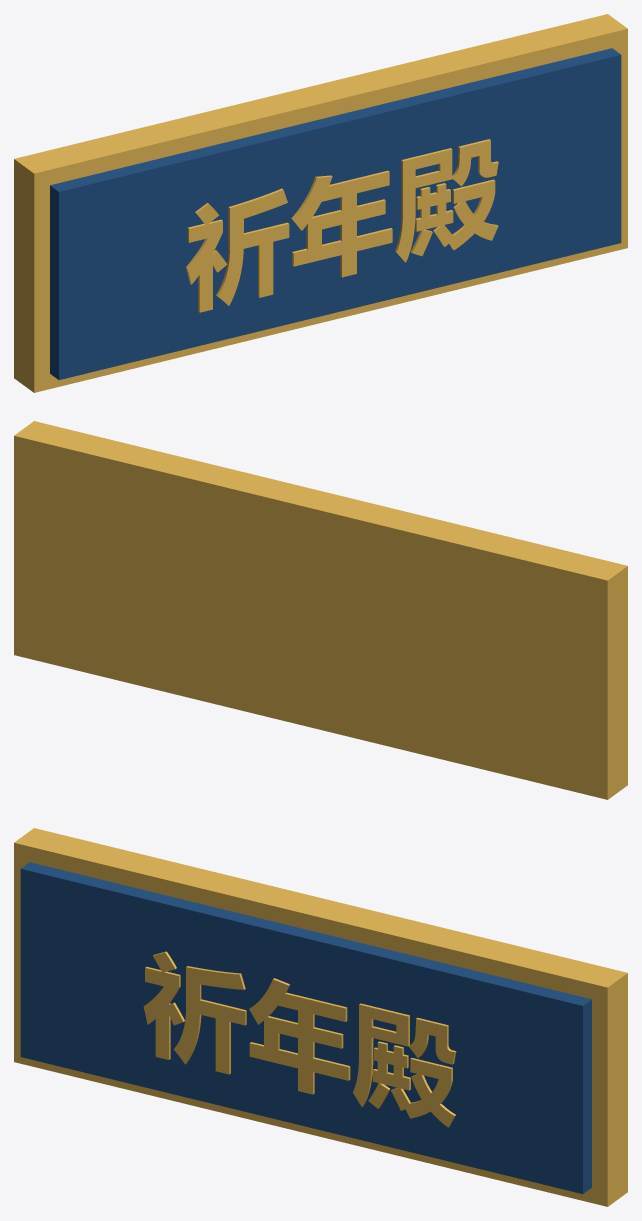
File: SM_08_Plaque.fbx
The picture shows the model from 3 angles, top to bottom: view 1: azimuth 30°, elevation 25°; view 2: azimuth 150°, elevation 25°; view 3: azimuth 330°, elevation 25°; orthographic projection.
Visible parts, largest first — view 1: Plaque; view 2: Plaque; view 3: Plaque.
Boxes of the visible parts, box(x1,y1,x2,y2) form: Plaque: box(14, 14, 627, 392); Plaque: box(14, 421, 627, 799); Plaque: box(14, 828, 627, 1206).
Bounding box in the file's own units: 340 × 31.8 × 120.
